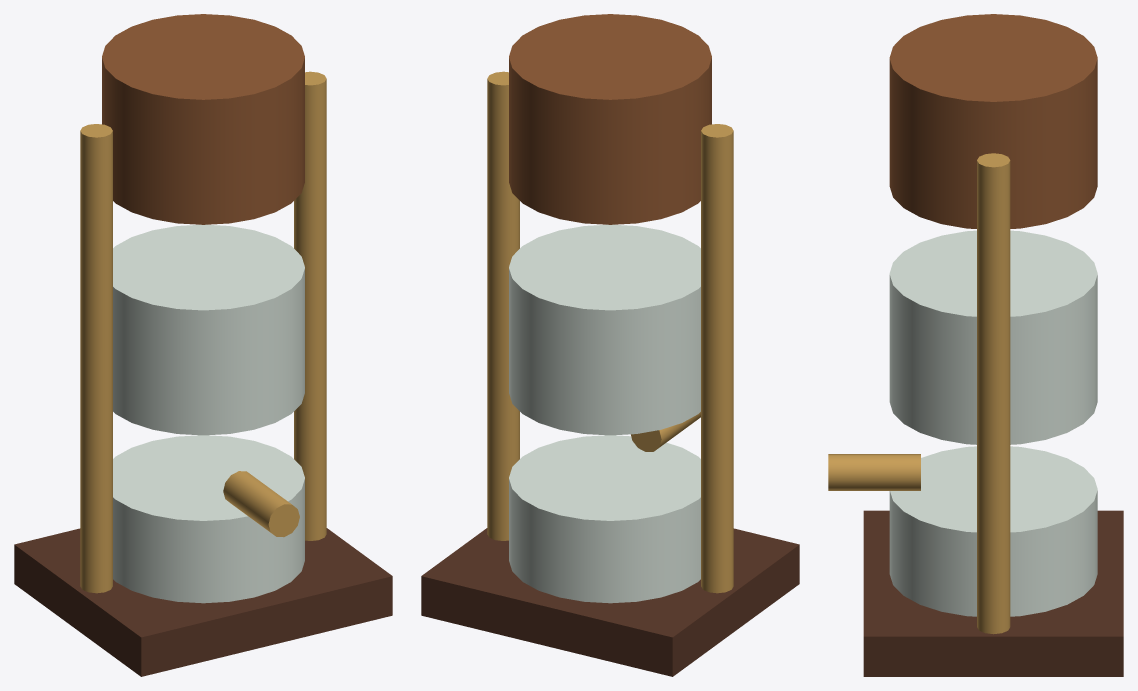
The model's file is cold-brew-tower.glb.
The picture shows the model from 3 angles, left to right: view 1: azimuth 30°, elevation 25°; view 2: azimuth 150°, elevation 25°; view 3: azimuth 270°, elevation 25°; orthographic projection. The views are drawn at different scales.
Parts seen in each view (by area): view 1: GlassChamber (×3), BrassPost (×2), WalnutBase, Tap; view 2: GlassChamber (×3), BrassPost (×2), WalnutBase, Tap; view 3: GlassChamber (×3), WalnutBase, BrassPost, Tap.
Part boxes in pixels (x1,y1,x2,y2): GlassChamber (×3): (102, 14, 304, 603); BrassPost (×2): (80, 71, 326, 593); WalnutBase: (14, 528, 392, 676); Tap: (223, 471, 299, 537); GlassChamber (×3): (509, 14, 711, 603); BrassPost (×2): (487, 71, 733, 593); WalnutBase: (421, 528, 799, 676); Tap: (631, 412, 700, 451); GlassChamber (×3): (889, 14, 1097, 616); WalnutBase: (863, 510, 1123, 676); BrassPost: (977, 153, 1010, 634); Tap: (828, 454, 920, 490).
Size of the model in its own units: 0.8 by 1.66 by 0.795.
